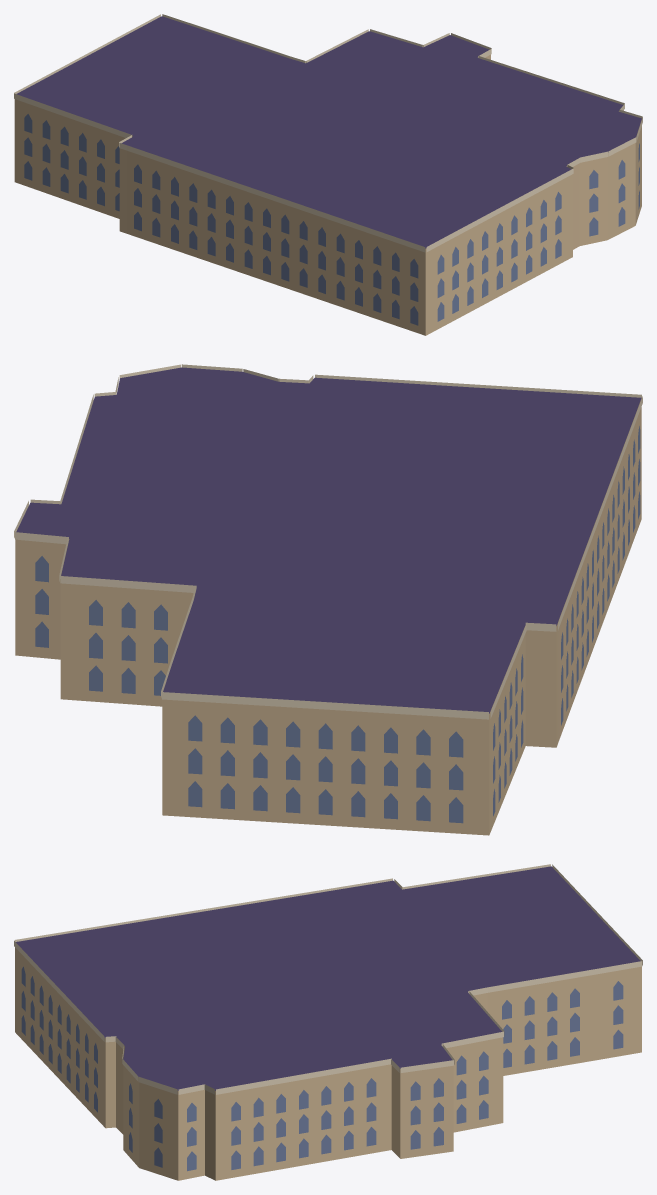
Rendered from core-natural-sciences-building-day.glb.
The picture shows the model from 3 angles, top to bottom: view 1: azimuth 30°, elevation 25°; view 2: azimuth 150°, elevation 25°; view 3: azimuth 270°, elevation 25°; orthographic projection. The views are drawn at different scales.
Visible parts, largest first — view 1: campus/core-natural-sciences-building-day-0; view 2: campus/core-natural-sciences-building-day-0; view 3: campus/core-natural-sciences-building-day-0.
Boxes of the visible parts, x1,y1,x2,y2 form: campus/core-natural-sciences-building-day-0: (14, 14, 642, 335); campus/core-natural-sciences-building-day-0: (14, 364, 642, 835); campus/core-natural-sciences-building-day-0: (14, 864, 642, 1180).
Bounding box in the file's own units: 65.51 × 12.45 × 77.29.
